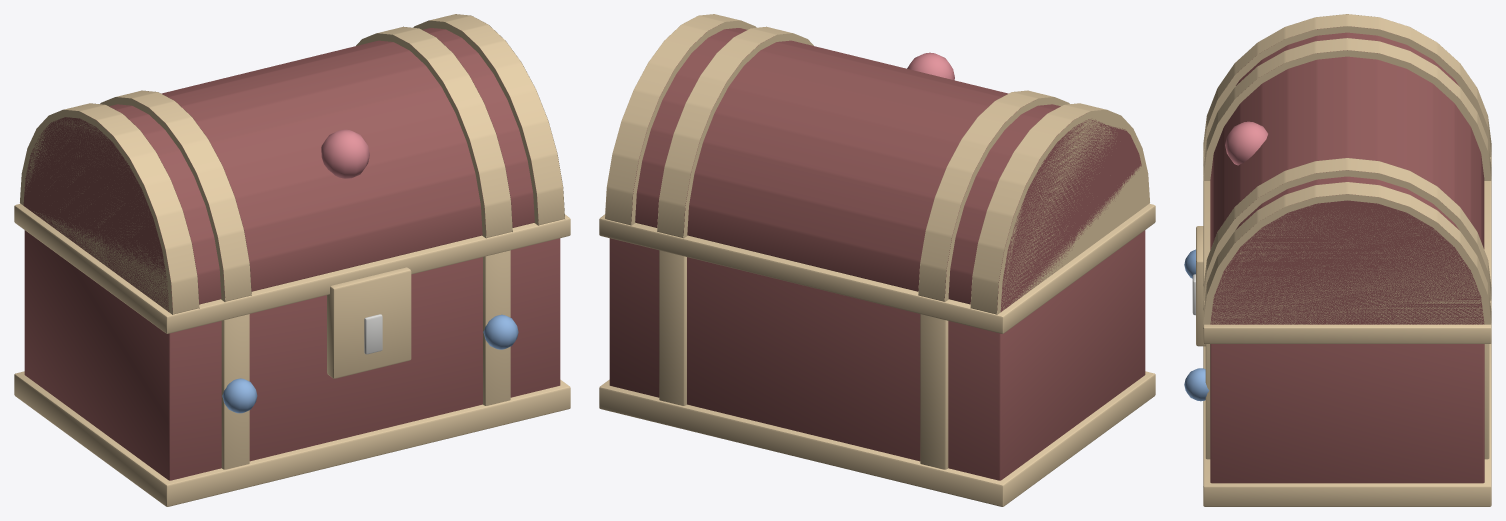
Rendered from crate_gold.gltf.
3 views of the same model, side by side, from view 1: azimuth 30°, elevation 25°; view 2: azimuth 150°, elevation 25°; view 3: azimuth 270°, elevation 25° (orthographic). The views are drawn at different scales.
Visible parts, largest first — view 1: Body, Lid, Glow; view 2: Lid, Body; view 3: Lid, Body.
Part boxes in pixels (box(x1,y1,x2,y2)): Body: box(14, 203, 570, 506); Lid: box(20, 14, 564, 314); Glow: box(364, 314, 382, 354); Lid: box(605, 14, 1149, 314); Body: box(599, 203, 1155, 506); Lid: box(1203, 14, 1491, 324); Body: box(1184, 157, 1491, 506).
Bounding box in the file's own units: 0.93 × 0.725 × 0.65.
